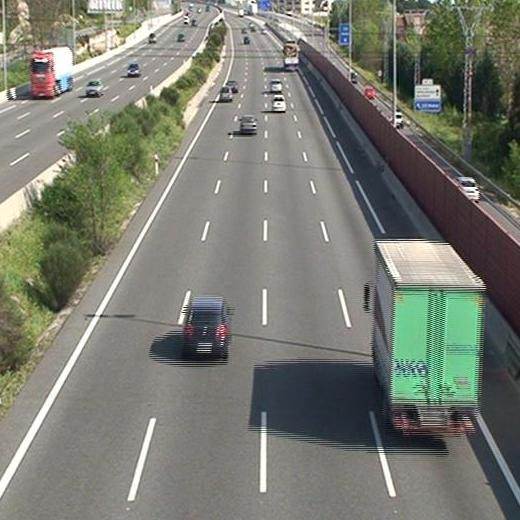car: (182, 298, 230, 356), (240, 115, 257, 134), (272, 94, 287, 111), (218, 86, 232, 101), (270, 78, 282, 92), (226, 80, 237, 92)
small-truck: (369, 242, 484, 436)
truck: (283, 41, 299, 71)
